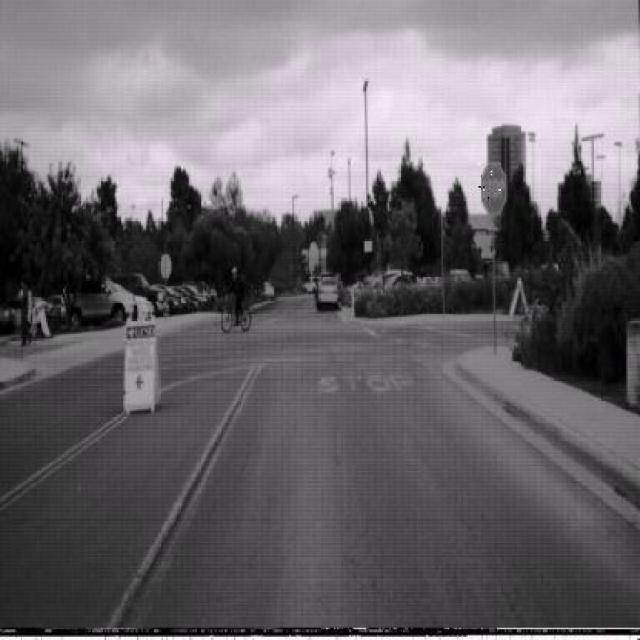stop: (478, 161, 508, 217)
